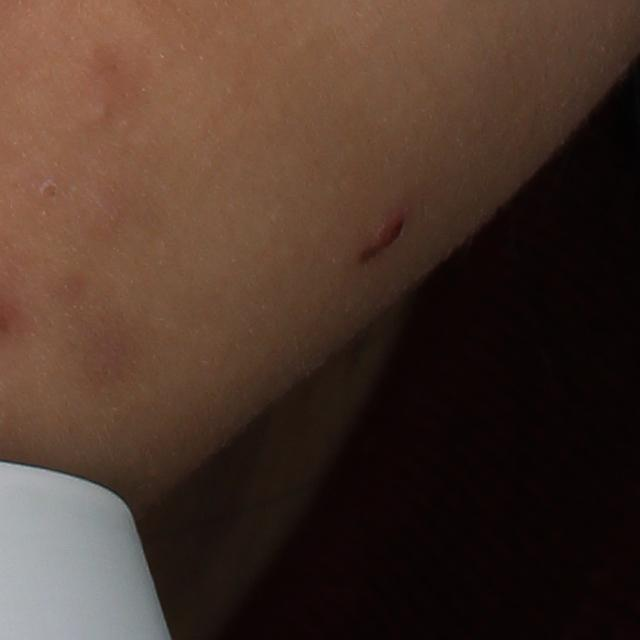comedo: (87, 98, 113, 125)
papule: (360, 203, 402, 262)
